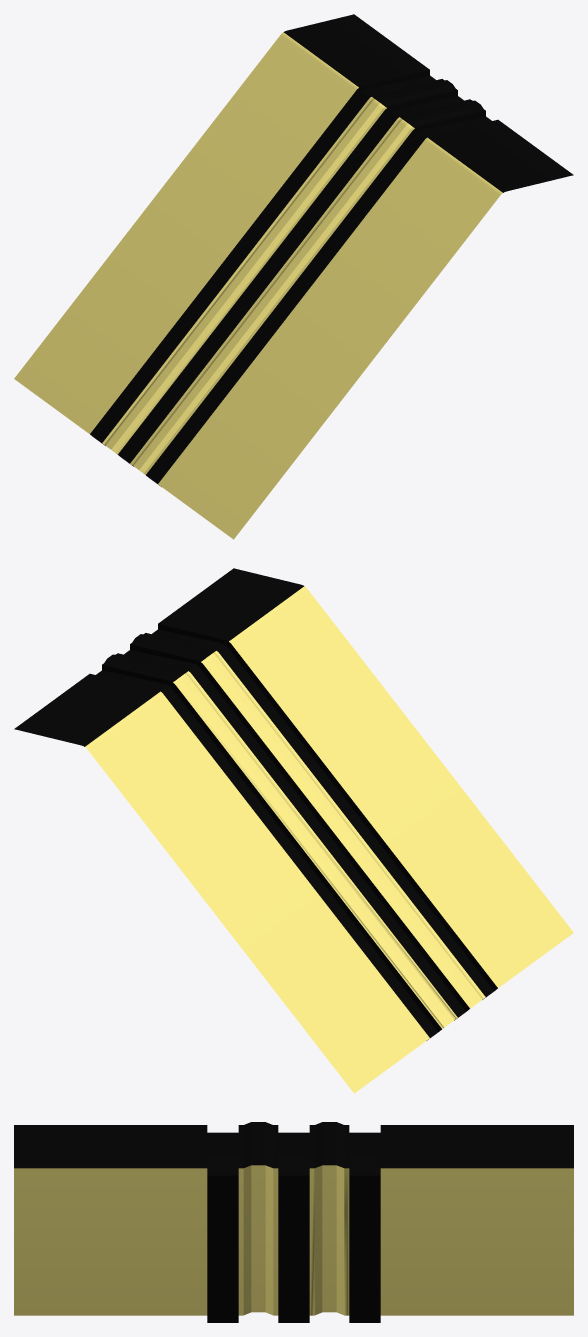
File: LiftRailsEnd.fbx
The picture shows the model from 3 angles, top to bottom: view 1: azimuth 30°, elevation 25°; view 2: azimuth 150°, elevation 25°; view 3: azimuth 270°, elevation 25°; orthographic projection. The views are drawn at different scales.
Parts seen in each view (by area): view 1: Plane.003; view 2: Plane.003; view 3: Plane.003.
Part boxes in pixels (left/top/right/bottom): Plane.003: left=14, top=14, right=573, bottom=539; Plane.003: left=14, top=568, right=573, bottom=1093; Plane.003: left=14, top=1122, right=573, bottom=1322.
Bounding box in the file's own units: 561 × 452 × 625.
